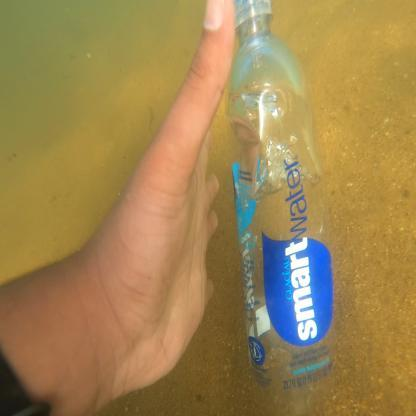Rác: (212, 0, 354, 416)
